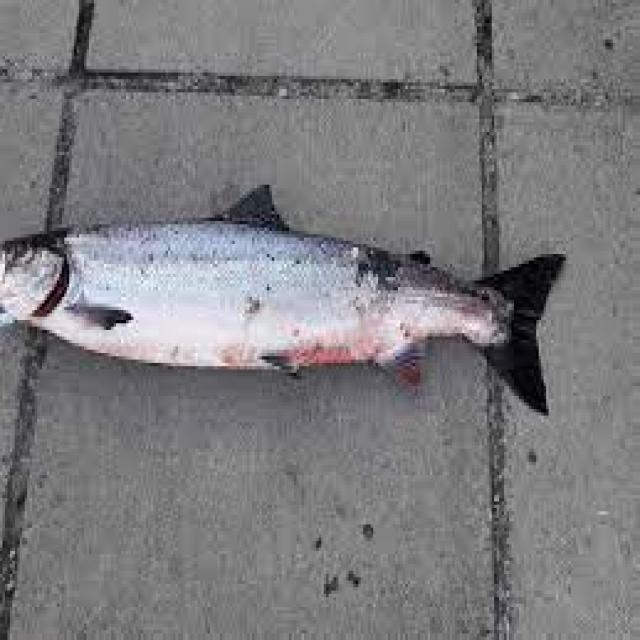EUS Disease: (0, 182, 568, 420), (158, 211, 547, 419)
